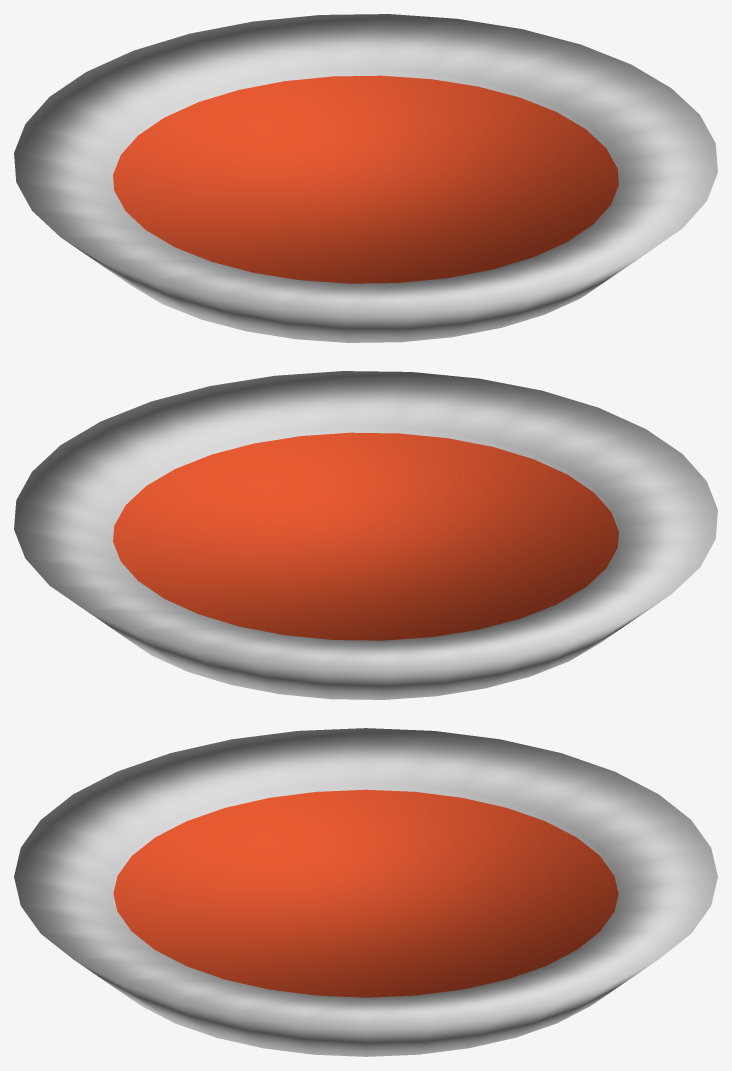
Rendered from TomatoSoup.glb.
3 views of the same model, one above another, from view 1: azimuth 30°, elevation 25°; view 2: azimuth 150°, elevation 25°; view 3: azimuth 270°, elevation 25° (orthographic).
Parts seen in each view (by area): view 1: Cylinder.031; view 2: Cylinder.031; view 3: Cylinder.031.
Boxes of the visible parts, box(x1,y1,x2,y2) form: Cylinder.031: box(14, 14, 717, 342); Cylinder.031: box(14, 371, 717, 699); Cylinder.031: box(14, 728, 717, 1056).
Bounding box in the file's own units: 0.7602 × 0.0786 × 0.7602.
